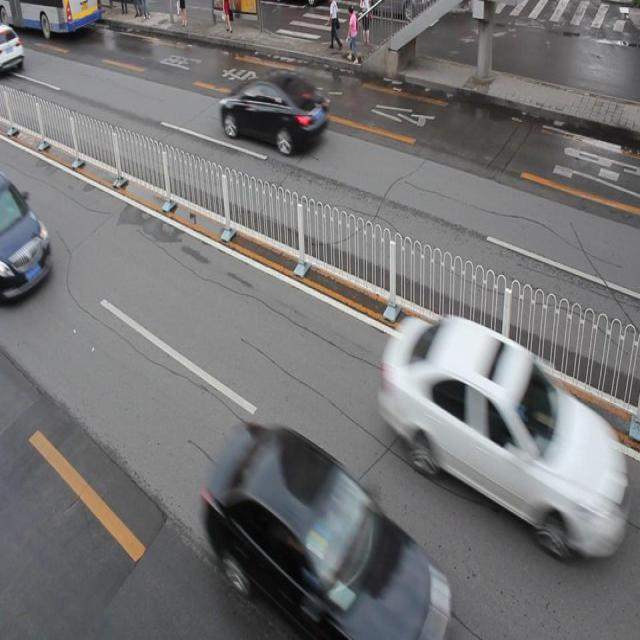car: (383, 312, 598, 551), (204, 426, 444, 640), (220, 67, 329, 155), (1, 24, 24, 80)
truck: (1, 175, 54, 300)
